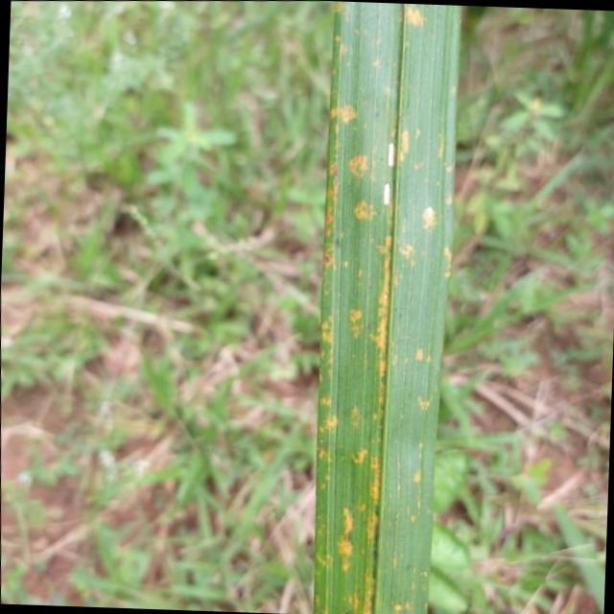Kalium: (315, 0, 464, 614)
